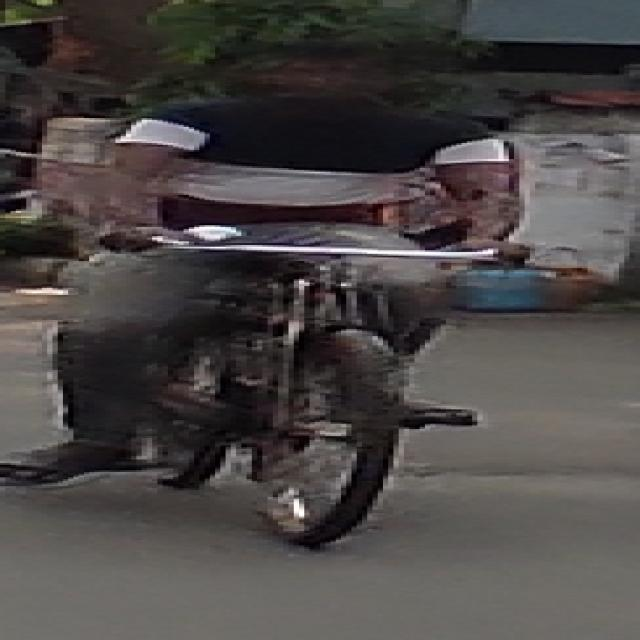bicycle: (49, 221, 571, 560)
